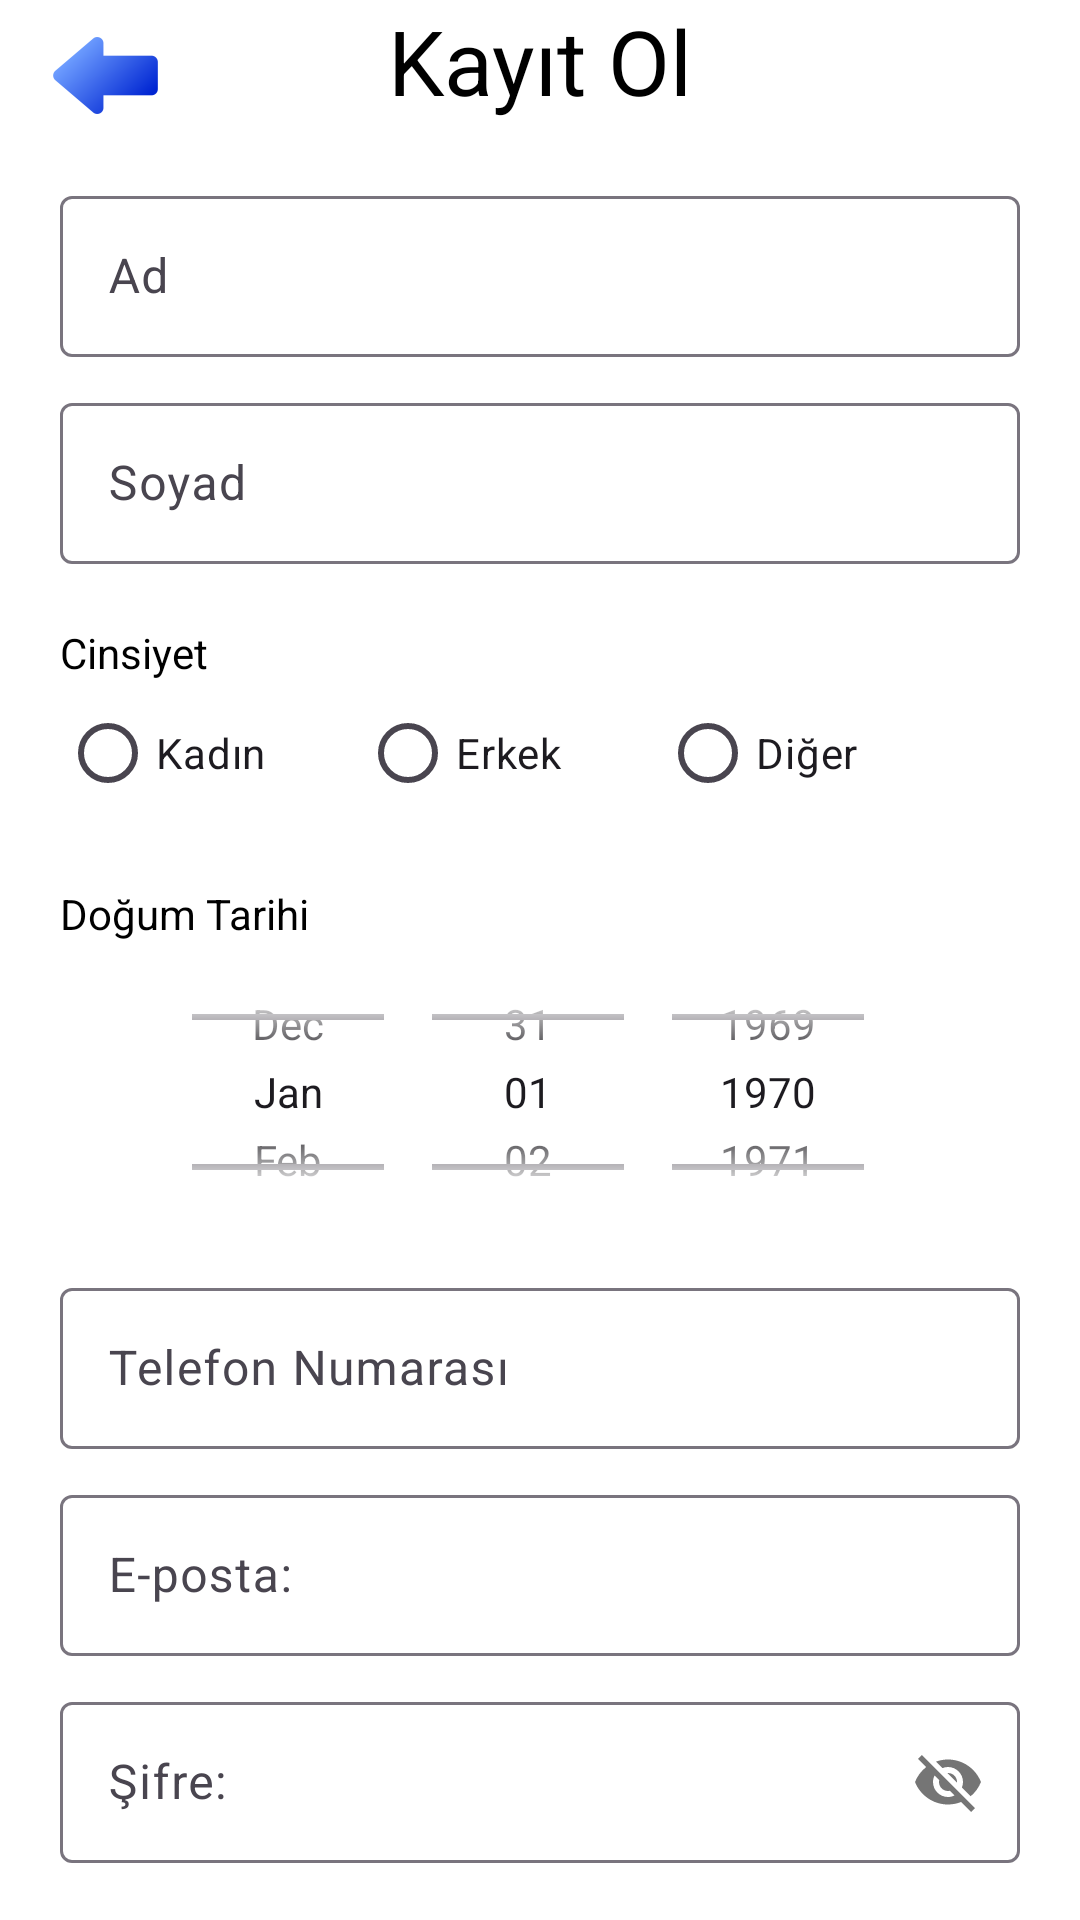

Where to tap for icons on this 1080x1920 app screen, as (x=x, y=y):
Dönüş İkonu: (x=105, y=75)
